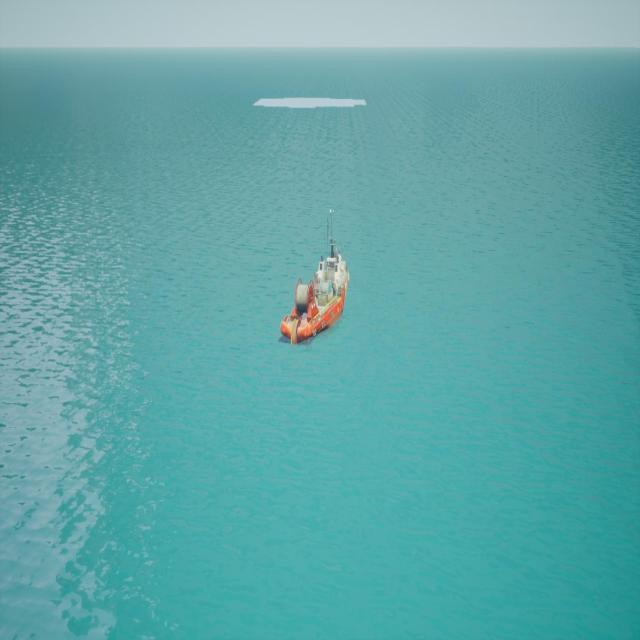tug boat: (282, 210, 350, 351)
